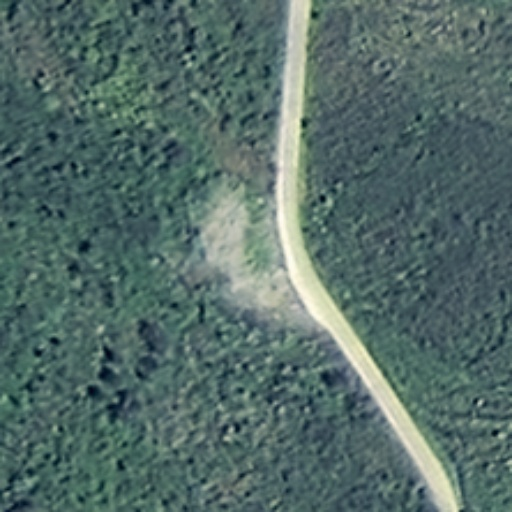landslide: (194, 176, 294, 319)
